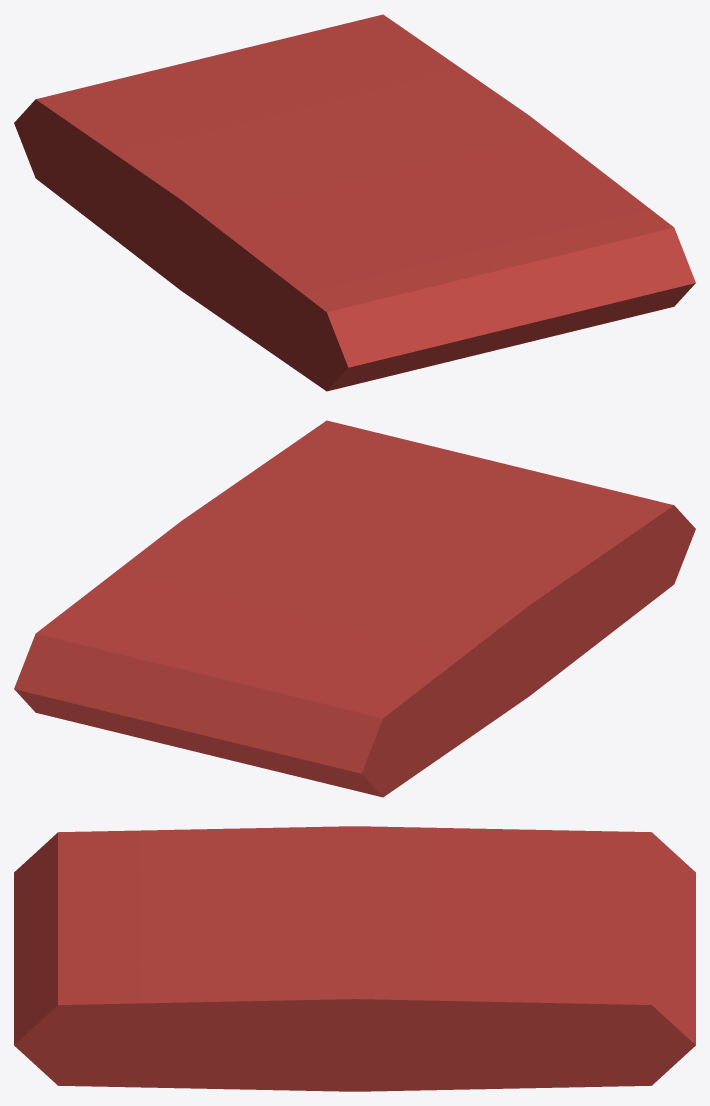
The model's file is tft_lod2.glb.
3 views of the same model, one above another, from view 1: azimuth 30°, elevation 25°; view 2: azimuth 150°, elevation 25°; view 3: azimuth 270°, elevation 25° (orthographic).
Visible parts, largest first — view 1: tft_lod2; view 2: tft_lod2; view 3: tft_lod2.
Part boxes in pixels (x1,y1,x2,y2): tft_lod2: [14, 14, 695, 391]; tft_lod2: [14, 420, 695, 797]; tft_lod2: [14, 826, 695, 1091].
Size of the model in its own units: 0.12 by 0.03 by 0.2.
